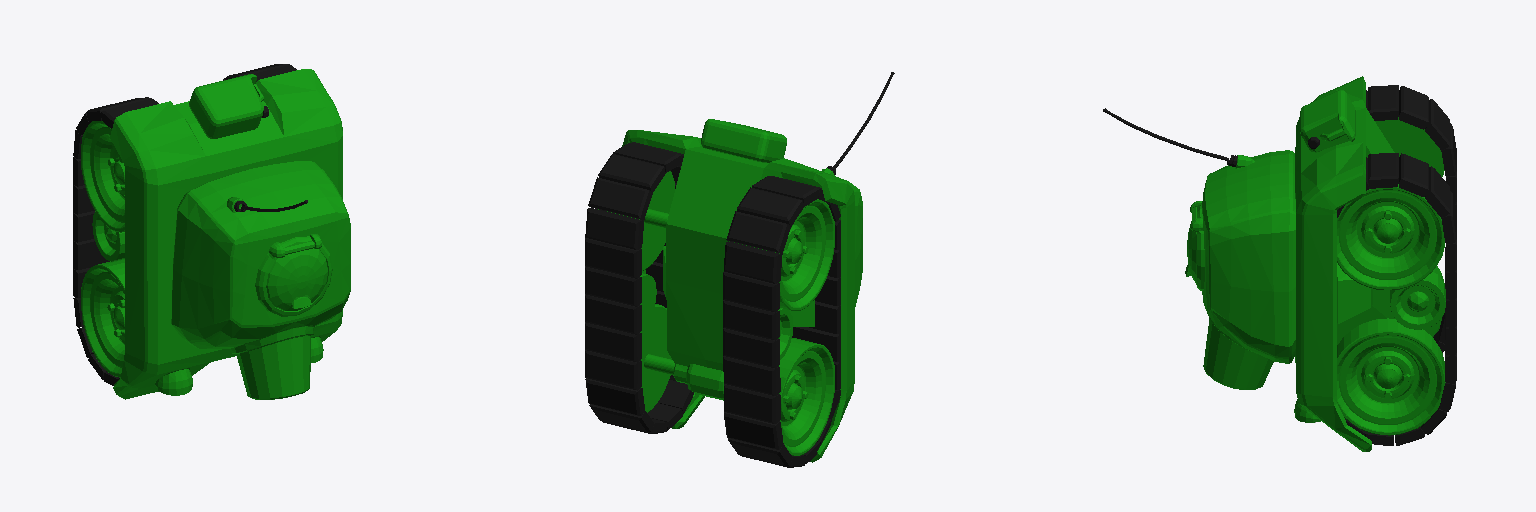
File: myTank.obj
3 views of the same model, side by side, from view 1: azimuth 30°, elevation 25°; view 2: azimuth 150°, elevation 25°; view 3: azimuth 270°, elevation 25° (orthographic).
Parts seen in each view (by area): view 1: TankRenderers Tank TankChassis, TankTurret TankRenderers Tank, TankRenderers Tank TankTracksRight; view 2: TankRenderers Tank TankTracksRight, TankRenderers Tank TankChassis, TankRenderers Tank TankTracksLeft, TankTurret TankRenderers Tank; view 3: TankRenderers Tank TankTracksLeft, TankRenderers Tank TankChassis, TankTurret TankRenderers Tank, TankRenderers Tank TankTracksRight.
Boxes of the visible parts, <box> form: TankRenderers Tank TankChassis: <box>92,69,342,399</box>; TankTurret TankRenderers Tank: <box>171,161,350,399</box>; TankRenderers Tank TankTracksRight: <box>73,97,158,385</box>; TankRenderers Tank TankTracksRight: <box>723,176,840,467</box>; TankRenderers Tank TankChassis: <box>622,119,854,462</box>; TankRenderers Tank TankTracksLeft: <box>585,142,693,433</box>; TankTurret TankRenderers Tank: <box>822,72,894,306</box>; TankRenderers Tank TankTracksLeft: <box>1337,153,1456,445</box>; TankRenderers Tank TankChassis: <box>1294,76,1445,451</box>; TankTurret TankRenderers Tank: <box>1103,108,1295,389</box>; TankRenderers Tank TankTracksRight: <box>1366,85,1456,352</box>.
Size of the model in its own units: 170 by 237 by 249.